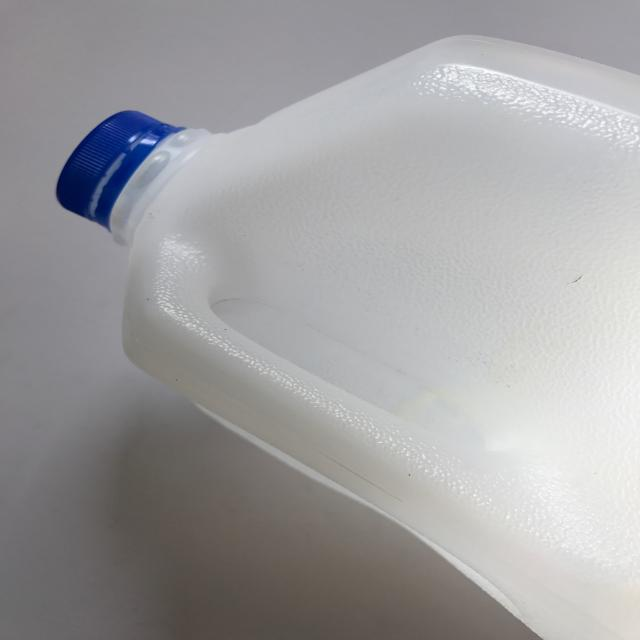plastic: (55, 34, 639, 638)
